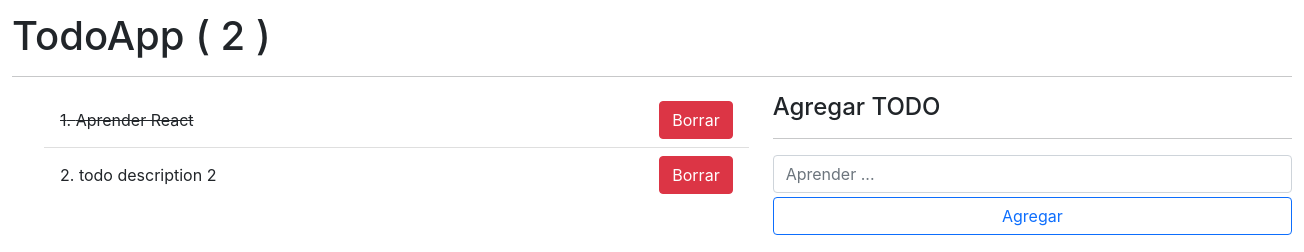
Test case: TodoApp tests › should delete one todo
Click the button with test id "todo-list-item-delete-button" in the row of "Aprender React" at (696, 120), box x1=659 y1=101 x2=733 y2=139
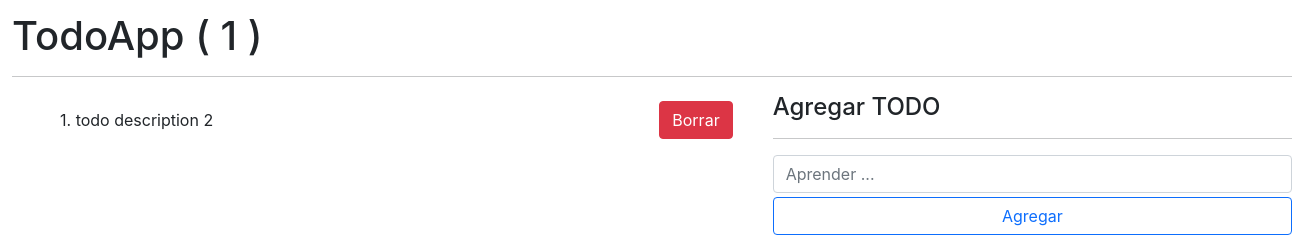
Expected: the number of elements with test id "todo-list-item-p" is 1, x1=60 y1=108 x2=213 y2=132
Expected: the text with test id "todo-list-item-p" reads "1. todo description 2", x1=60 y1=108 x2=213 y2=132
Expected: the heading with test id "todo-app-h1" reads "TodoApp ( 1 )", x1=12 y1=11 x2=263 y2=60
